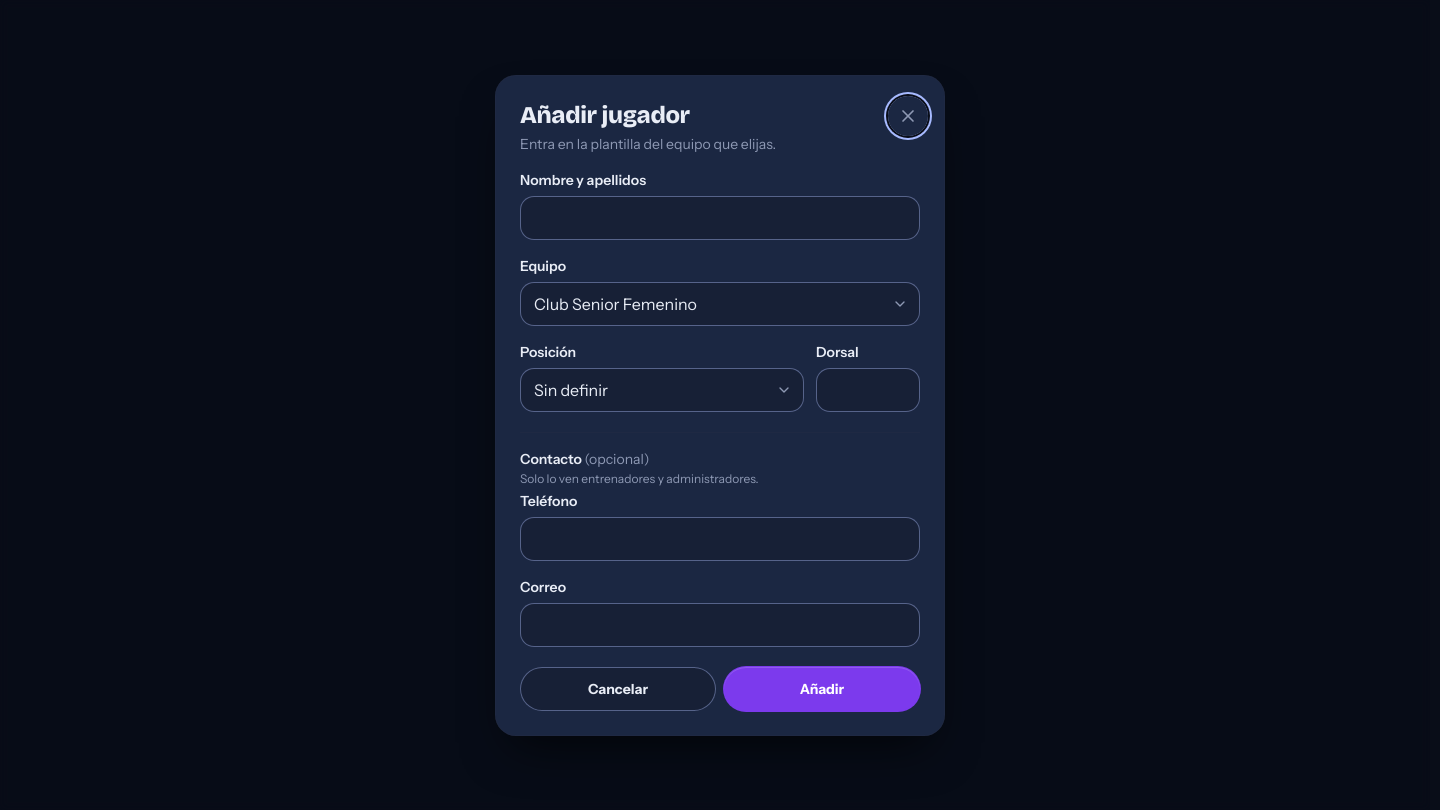
PlayerDialog › otros errores del servidor salen en un aviso
In the field labelled "Nombre y apellidos": (720, 218) [520,196,920,240], type "Ana García"
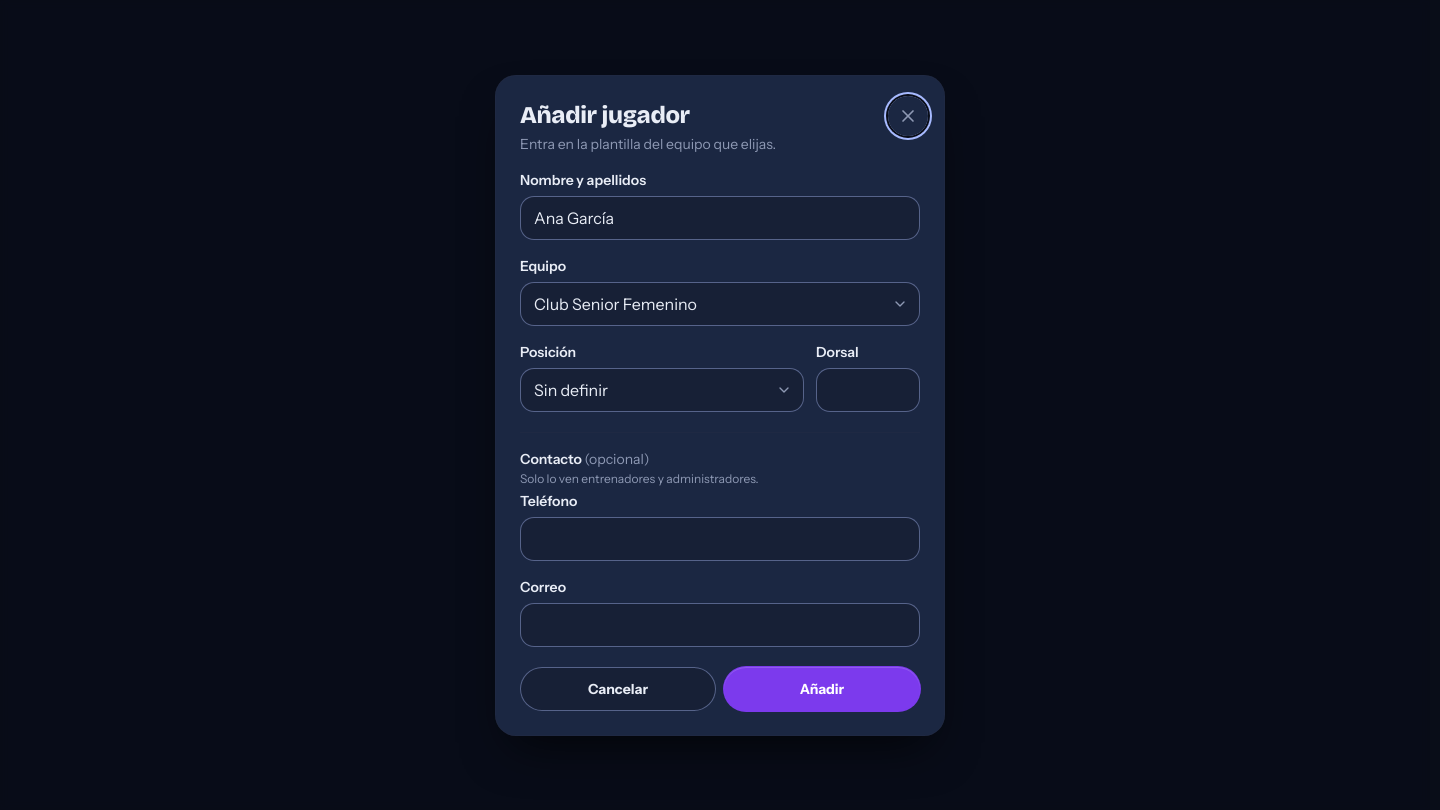
Click the button "Añadir": (822, 688) [724,666,920,710]
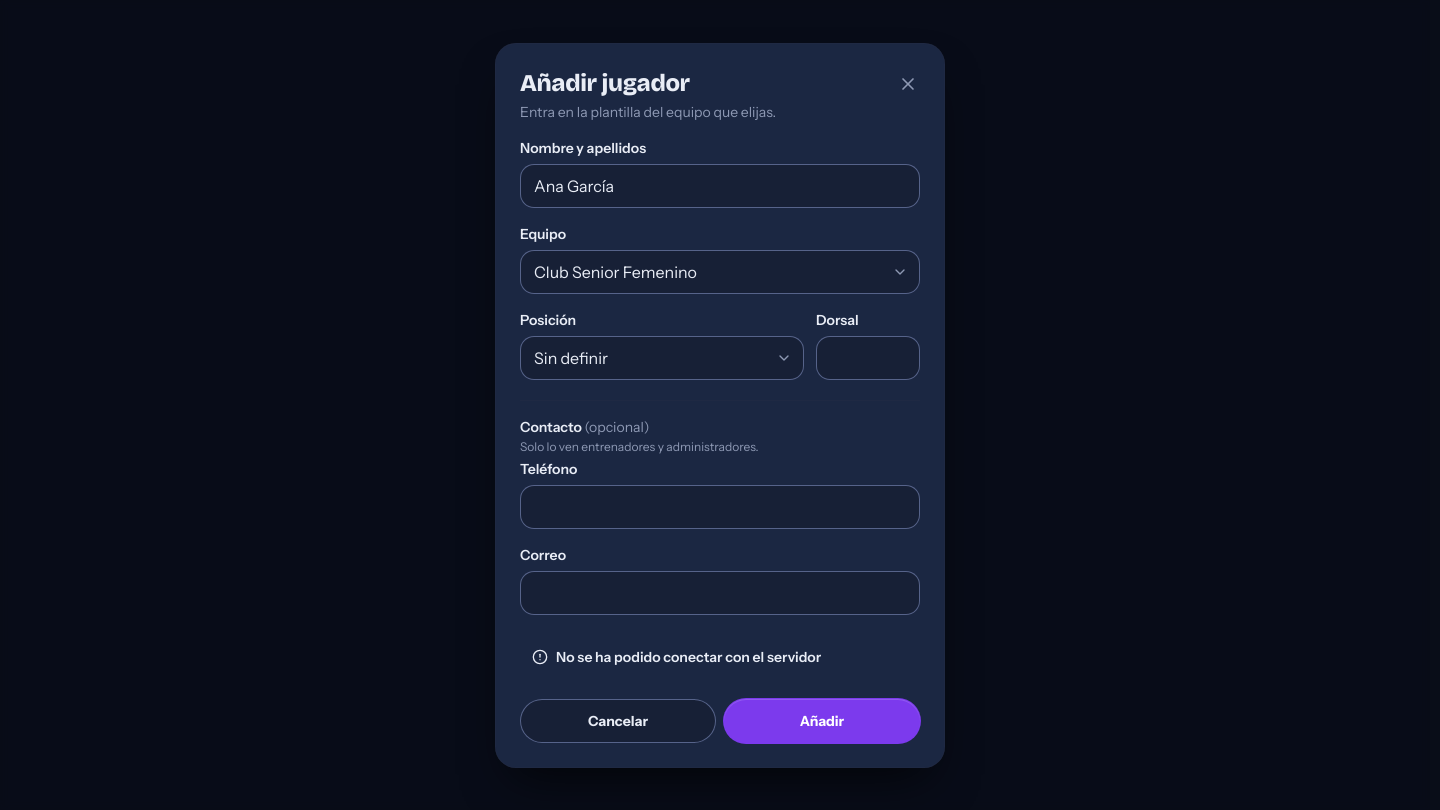
Check: the message reads "No se ha podido conectar con el servidor", box [556,648,821,666]
